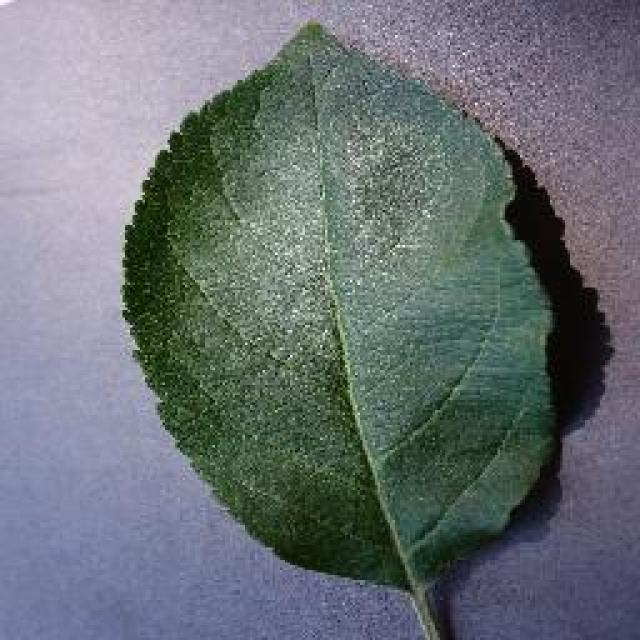apple healthy: (115, 18, 570, 628)
